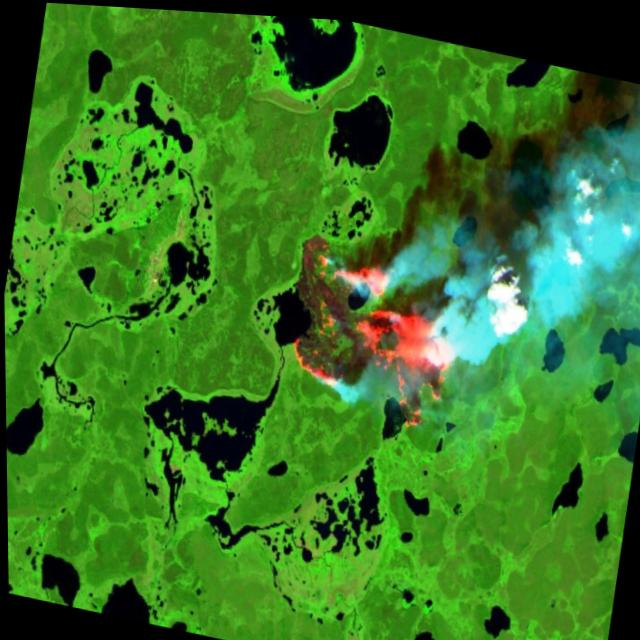fire: (270, 220, 475, 436)
